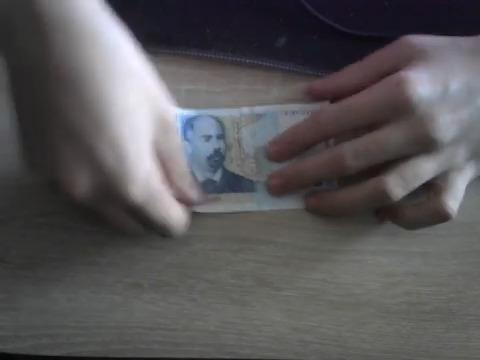20leva: (176, 103, 322, 209)
